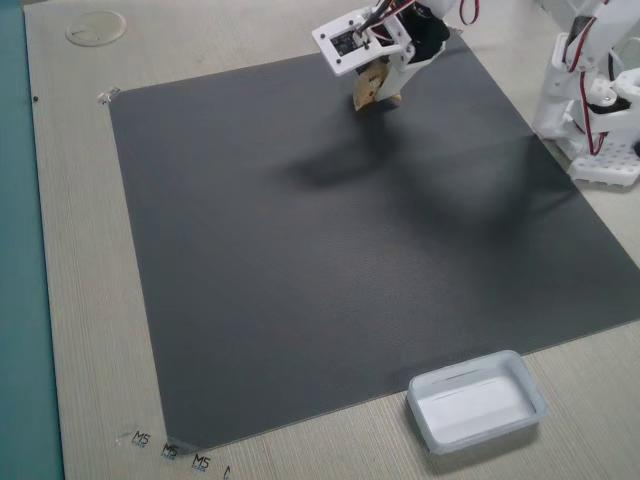gripper: (316, 0, 454, 101)
